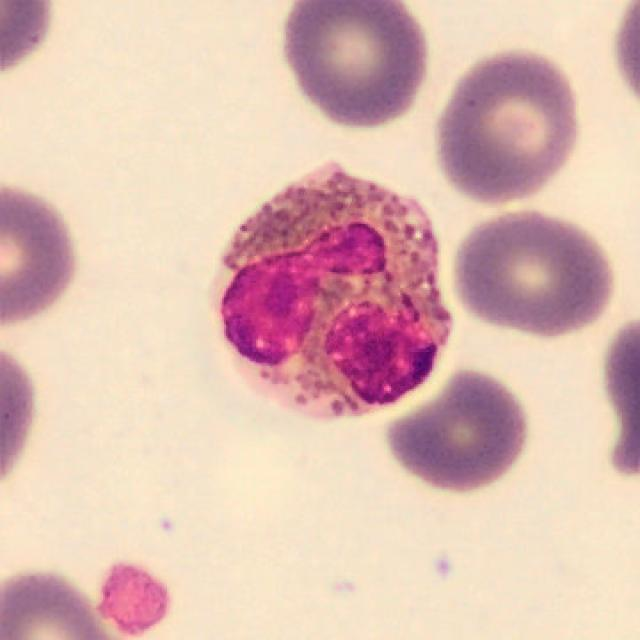Eosinofilo: (210, 160, 453, 423)
